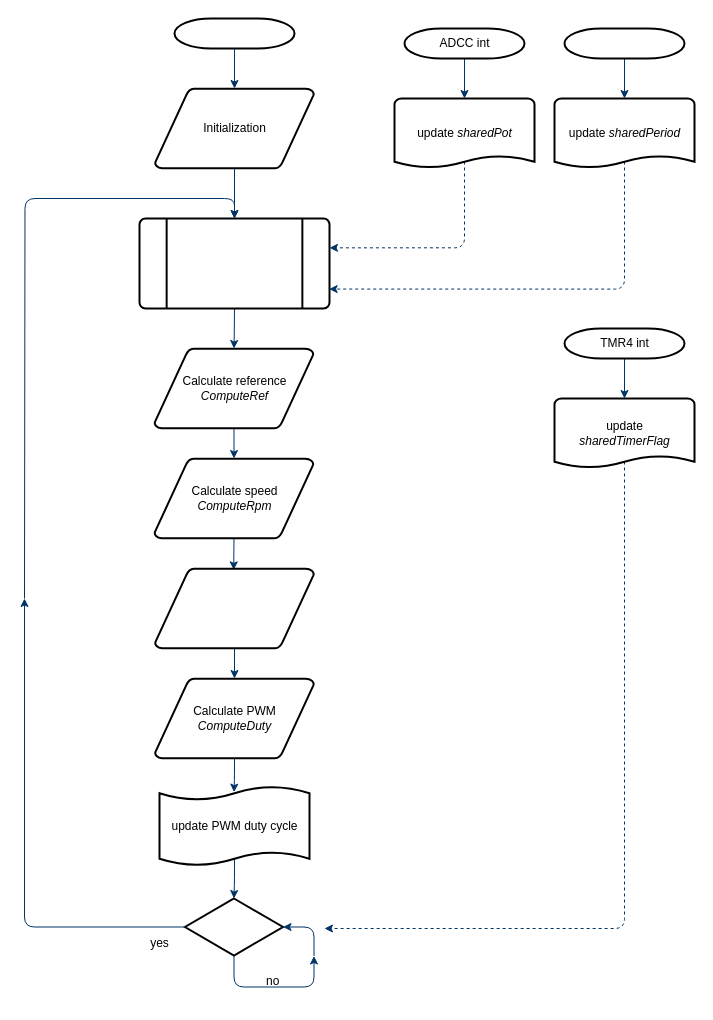
This 713x1020 diagram has some shape labels left out. The box of each missing label's shape, as (x1, y1, x2, y2) in pixels:
atomic read sharedPeriod sharedPot: (138, 217, 330, 309)
Calculate output ComputePI: (154, 567, 314, 649)
expired timer?: (184, 897, 284, 956)
main start: (173, 17, 295, 49)
SMT int: (563, 27, 685, 59)
